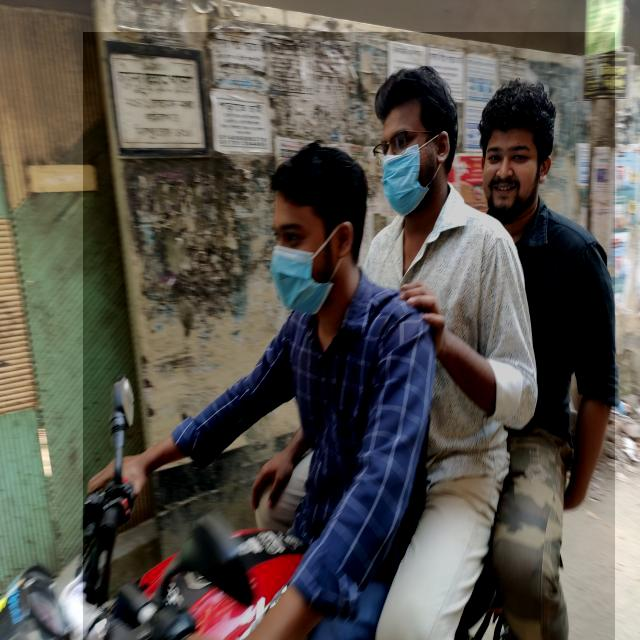Overloading: (83, 32, 615, 640)
